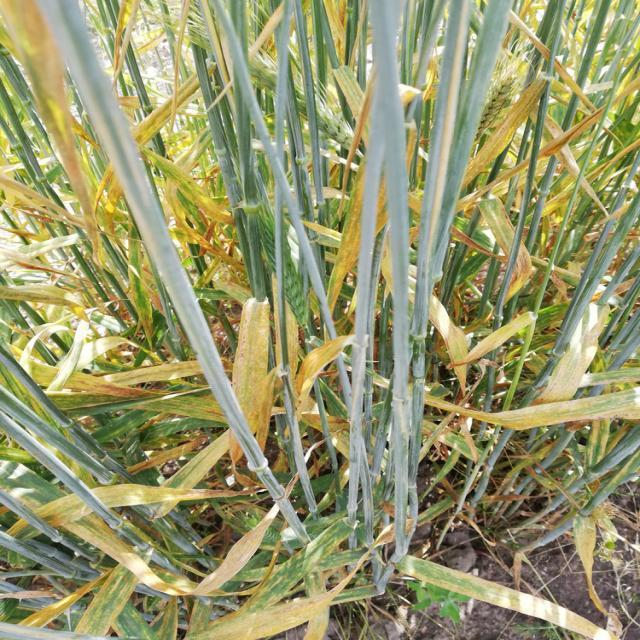Yellow Rust: (395, 554, 611, 639), (424, 388, 639, 428), (231, 304, 274, 434)
